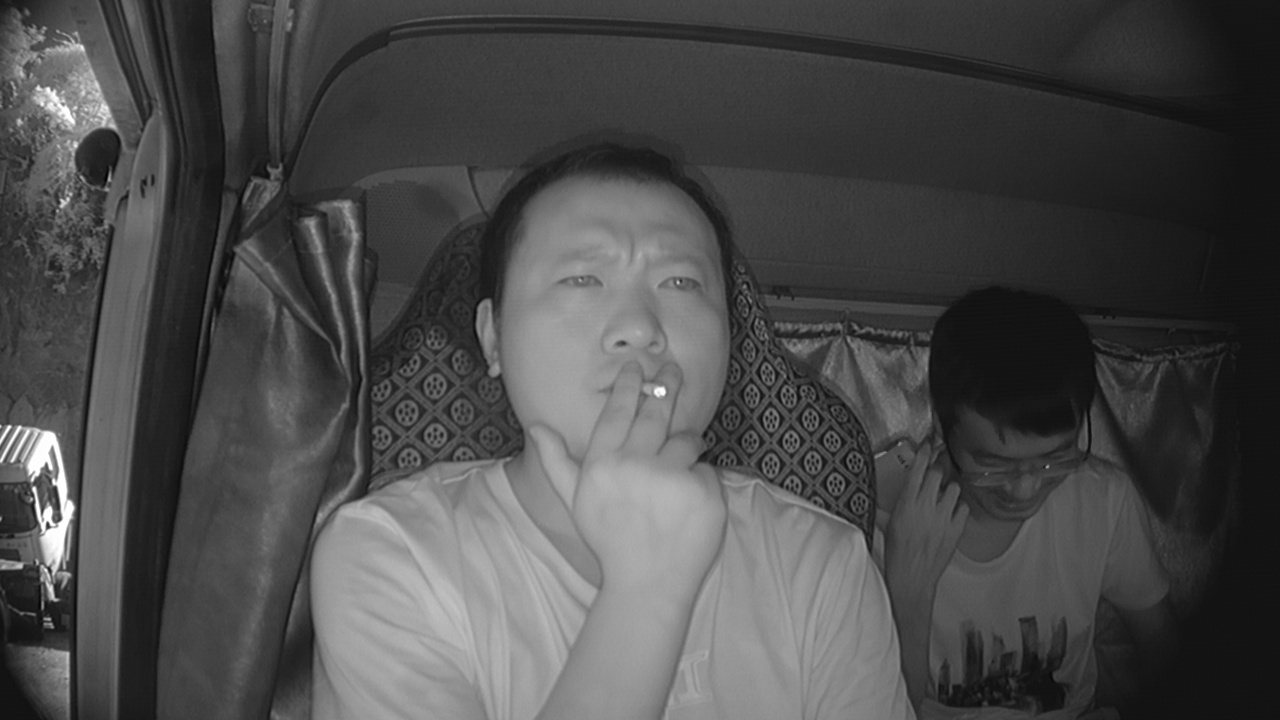hand: (586, 363, 727, 528)
